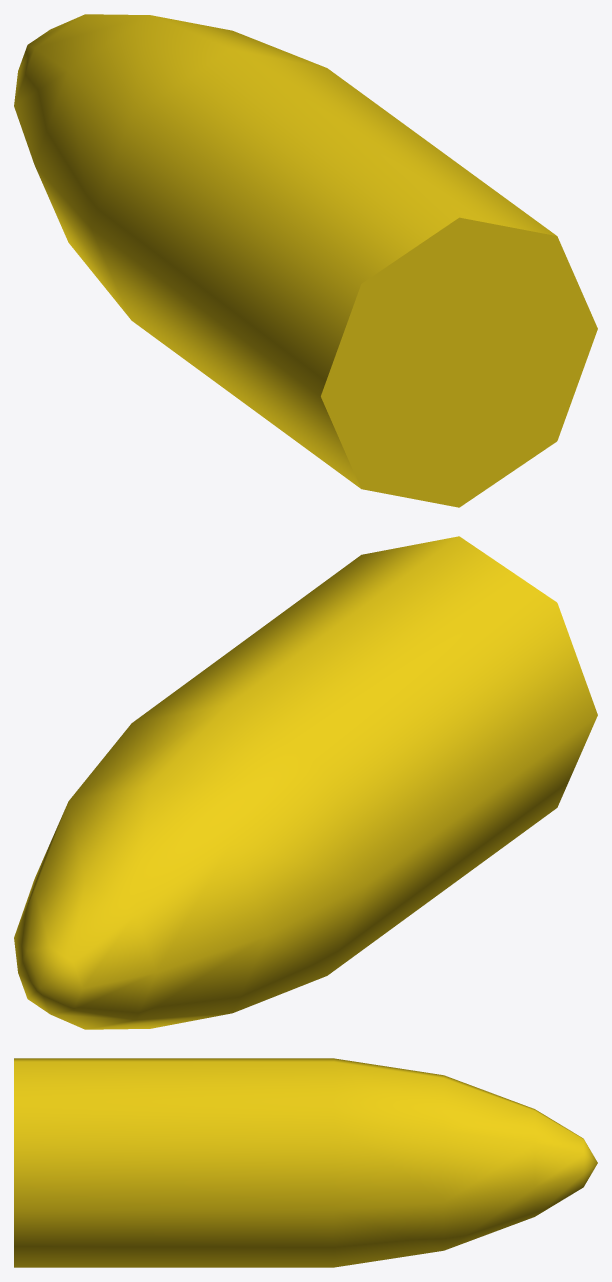
File: Pistol_Bullet_Parent.fbx
The picture shows the model from 3 angles, top to bottom: view 1: azimuth 30°, elevation 25°; view 2: azimuth 150°, elevation 25°; view 3: azimuth 270°, elevation 25°; orthographic projection. The views are drawn at different scales.
Visible parts, largest first — view 1: Pistol_Bullet; view 2: Pistol_Bullet; view 3: Pistol_Bullet.
Boxes of the visible parts, x1,y1,x2,y2 form: Pistol_Bullet: (14,14,597,507); Pistol_Bullet: (14,536,597,1029); Pistol_Bullet: (14,1058,597,1267).
Size of the model in its own units: 0.7023 by 0.7023 by 1.84.
